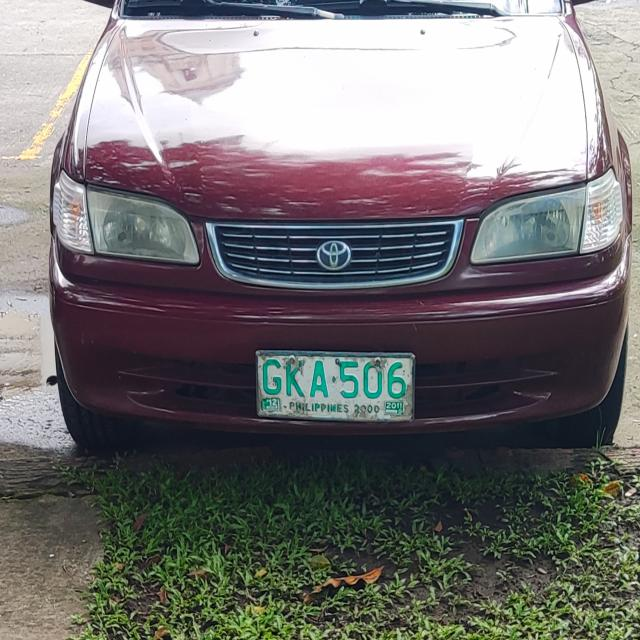plate: (253, 347, 417, 426)
